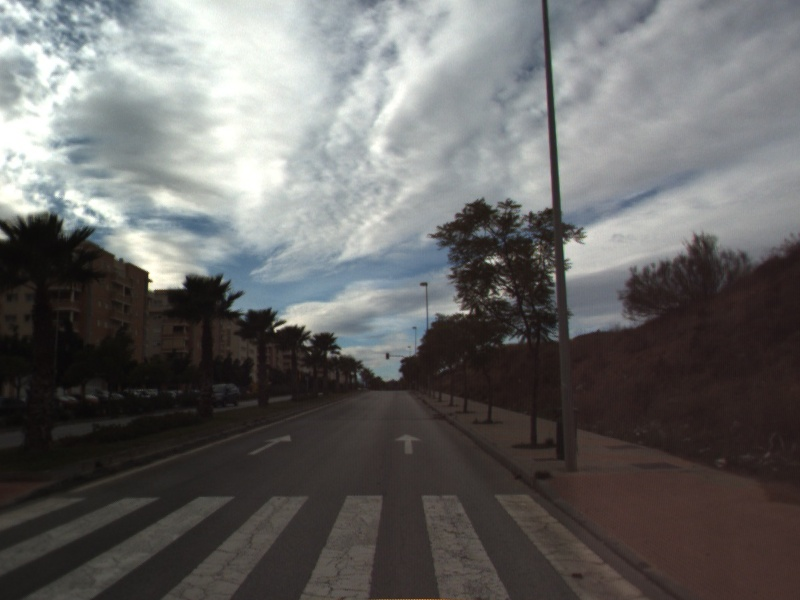STRAIGHT: (246, 433, 293, 457), (393, 431, 424, 456)
